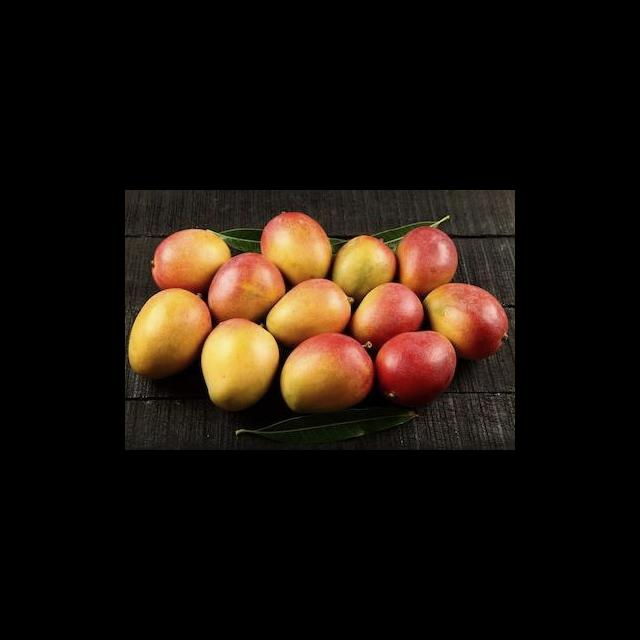mango: (280, 333, 374, 413), (129, 288, 212, 377), (201, 318, 279, 411), (424, 283, 507, 359), (376, 332, 455, 405), (267, 279, 351, 347), (208, 252, 285, 321), (261, 212, 331, 285), (351, 283, 424, 349), (152, 230, 229, 292), (332, 235, 396, 300), (397, 227, 458, 295)
